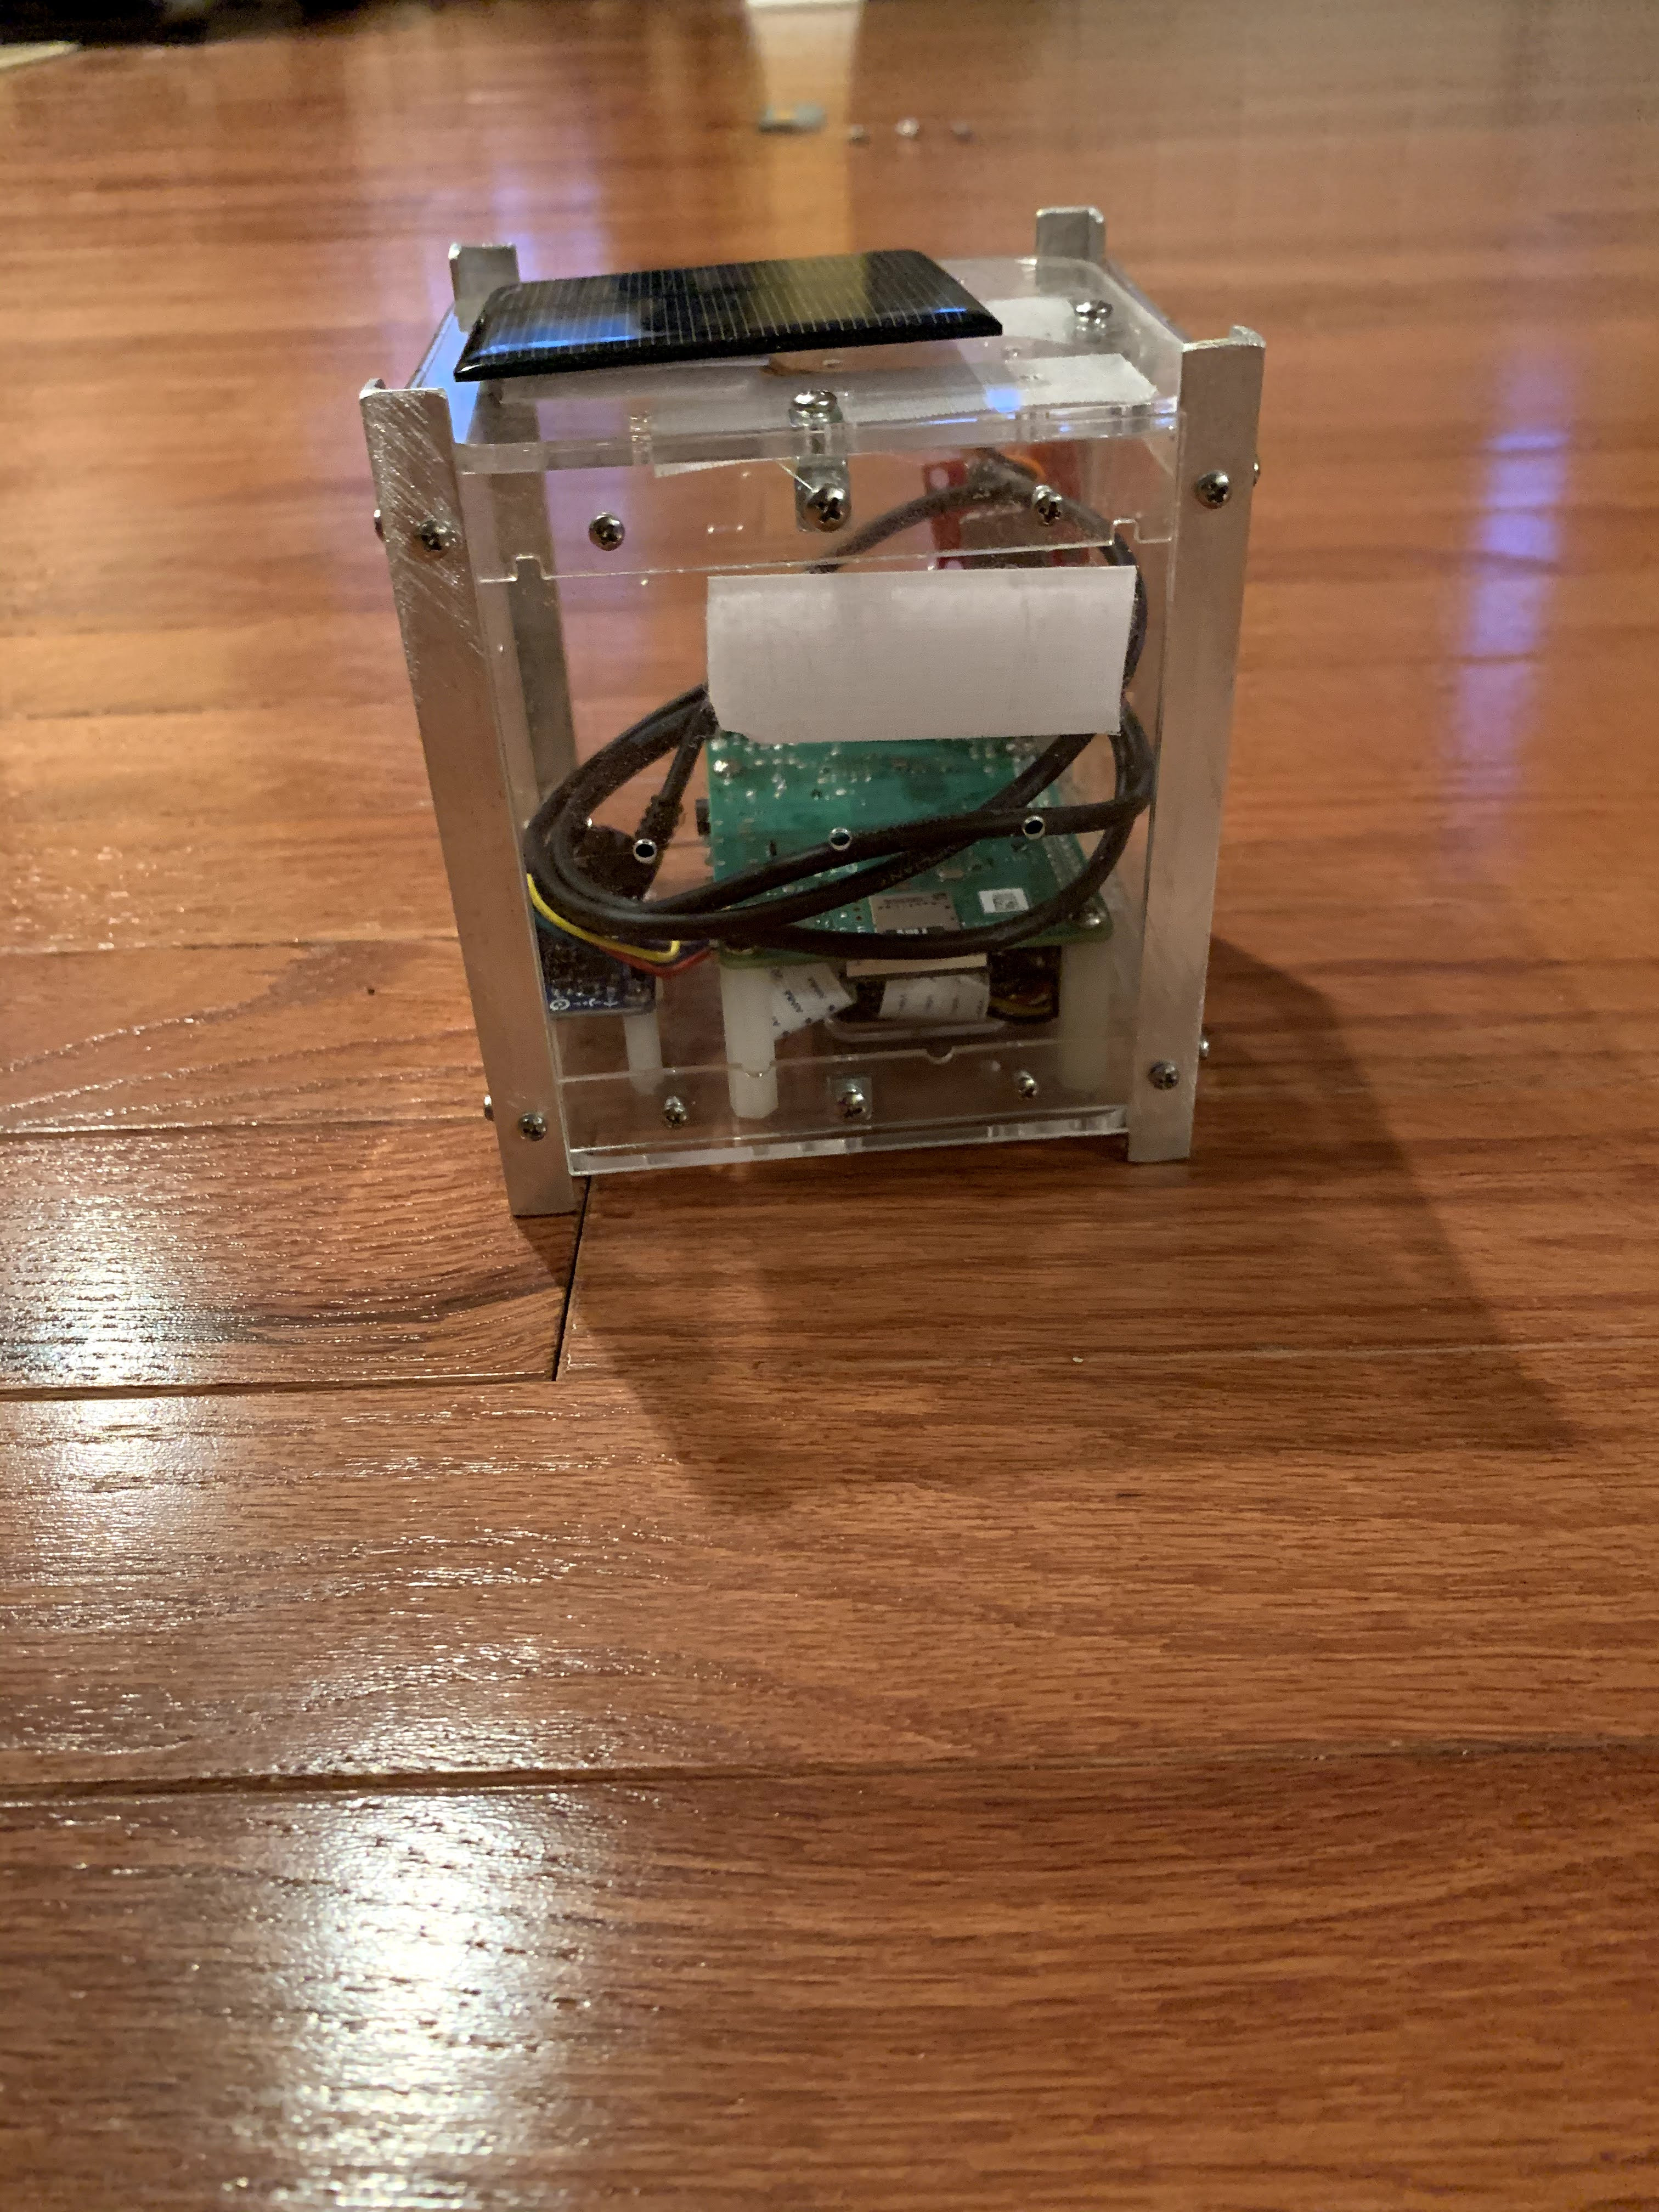Space-debris-cubesat: (356, 190, 1295, 1228)
